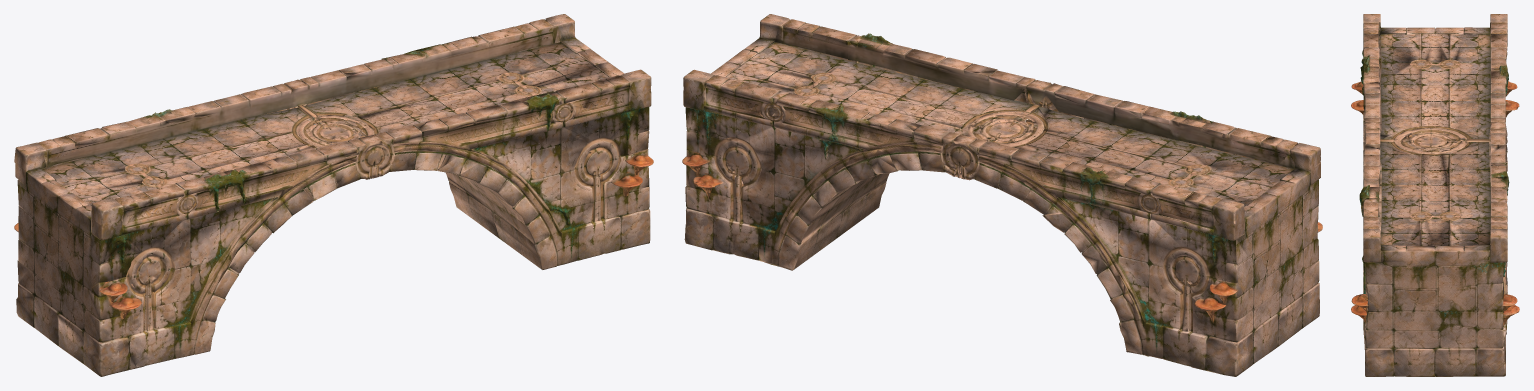
The model's file is citadel_bridge.fbx.
3 views of the same model, side by side, from view 1: azimuth 30°, elevation 25°; view 2: azimuth 150°, elevation 25°; view 3: azimuth 270°, elevation 25° (orthographic). The views are drawn at different scales.
Parts seen in each view (by area): view 1: citadel_bridge; view 2: citadel_bridge; view 3: citadel_bridge.
Boxes of the visible parts, box(x1,y1,x2,y2) form: citadel_bridge: box(14, 14, 653, 376); citadel_bridge: box(682, 14, 1322, 376); citadel_bridge: box(1351, 14, 1519, 376).
Bounding box in the file's own units: 30 × 9.04 × 9.5.
